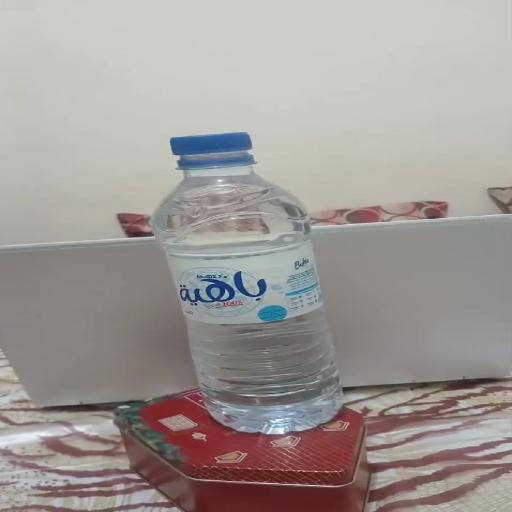bouteille non conformite: (151, 119, 342, 434), (153, 116, 306, 186)
